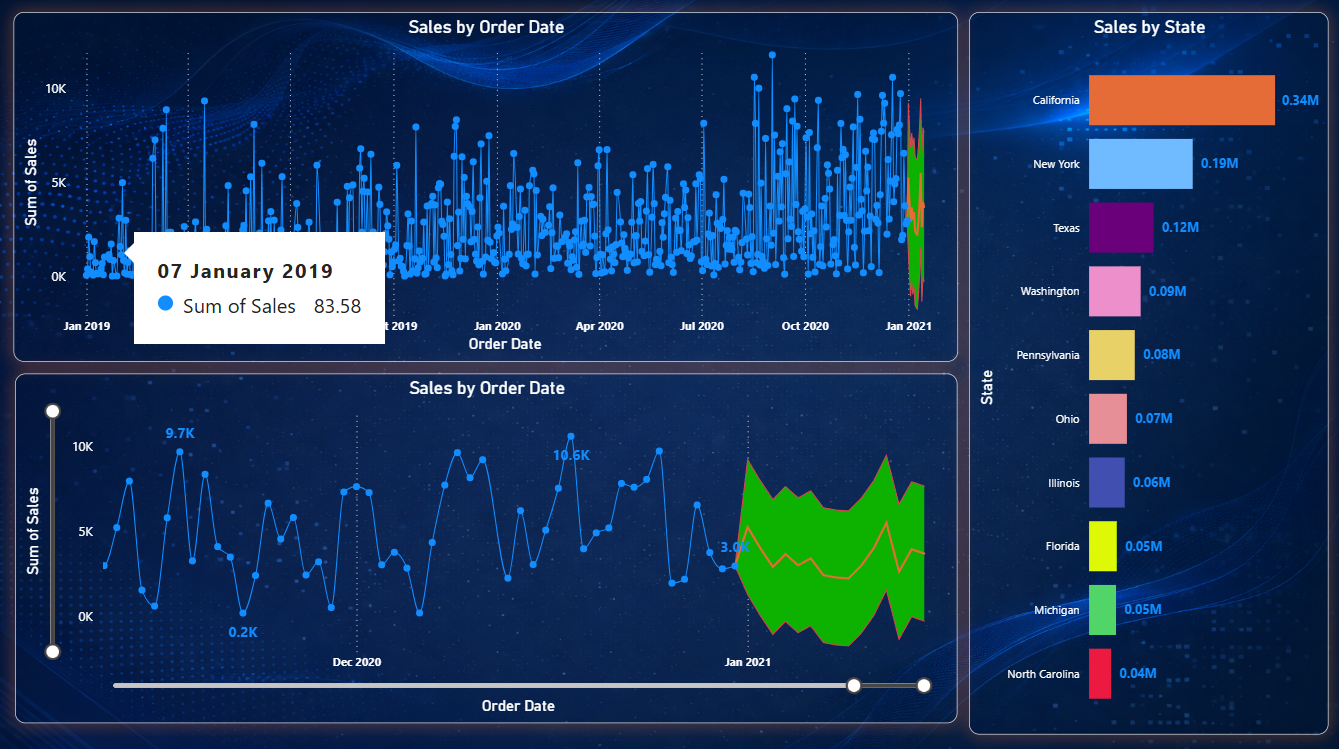

This screenshot's page, from the dashboard's own definition file:
{"tool":"powerbi","page":{"name":"Forecast","canvas":[1280,720],"ordinal":1},"visuals":[{"type":"lineChart","title":"Sales by Order Date","fields":{"Y":["Sum(SuperStore_Sales_Dataset.Sales)"],"Category":["SuperStore_Sales_Dataset.Order Date"]},"box":[12.7,14.3,901.9,334],"z":0},{"type":"clusteredBarChart","title":"Sales by State","fields":{"Category":["SuperStore_Sales_Dataset.State"],"Y":["Sum(SuperStore_Sales_Dataset.Sales)"]},"box":[925.7,14.3,343.6,690.3],"z":1000},{"type":"lineChart","title":"Sales by Order Date","fields":{"Y":["Sum(SuperStore_Sales_Dataset.Sales)"],"Category":["SuperStore_Sales_Dataset.Order Date"]},"box":[14.3,359.5,900.3,334],"z":2000}]}

Visuals, with their boxes in screenshot pixels (x1, y1, x2, y2), scaled from the page's 1280x720 canvas onto the 1339x749 screenshot:
"Sales by Order Date" lineChart: 13/15/957/362
"Sales by State" clusteredBarChart: 968/15/1328/733
"Sales by Order Date" lineChart: 15/374/957/721
